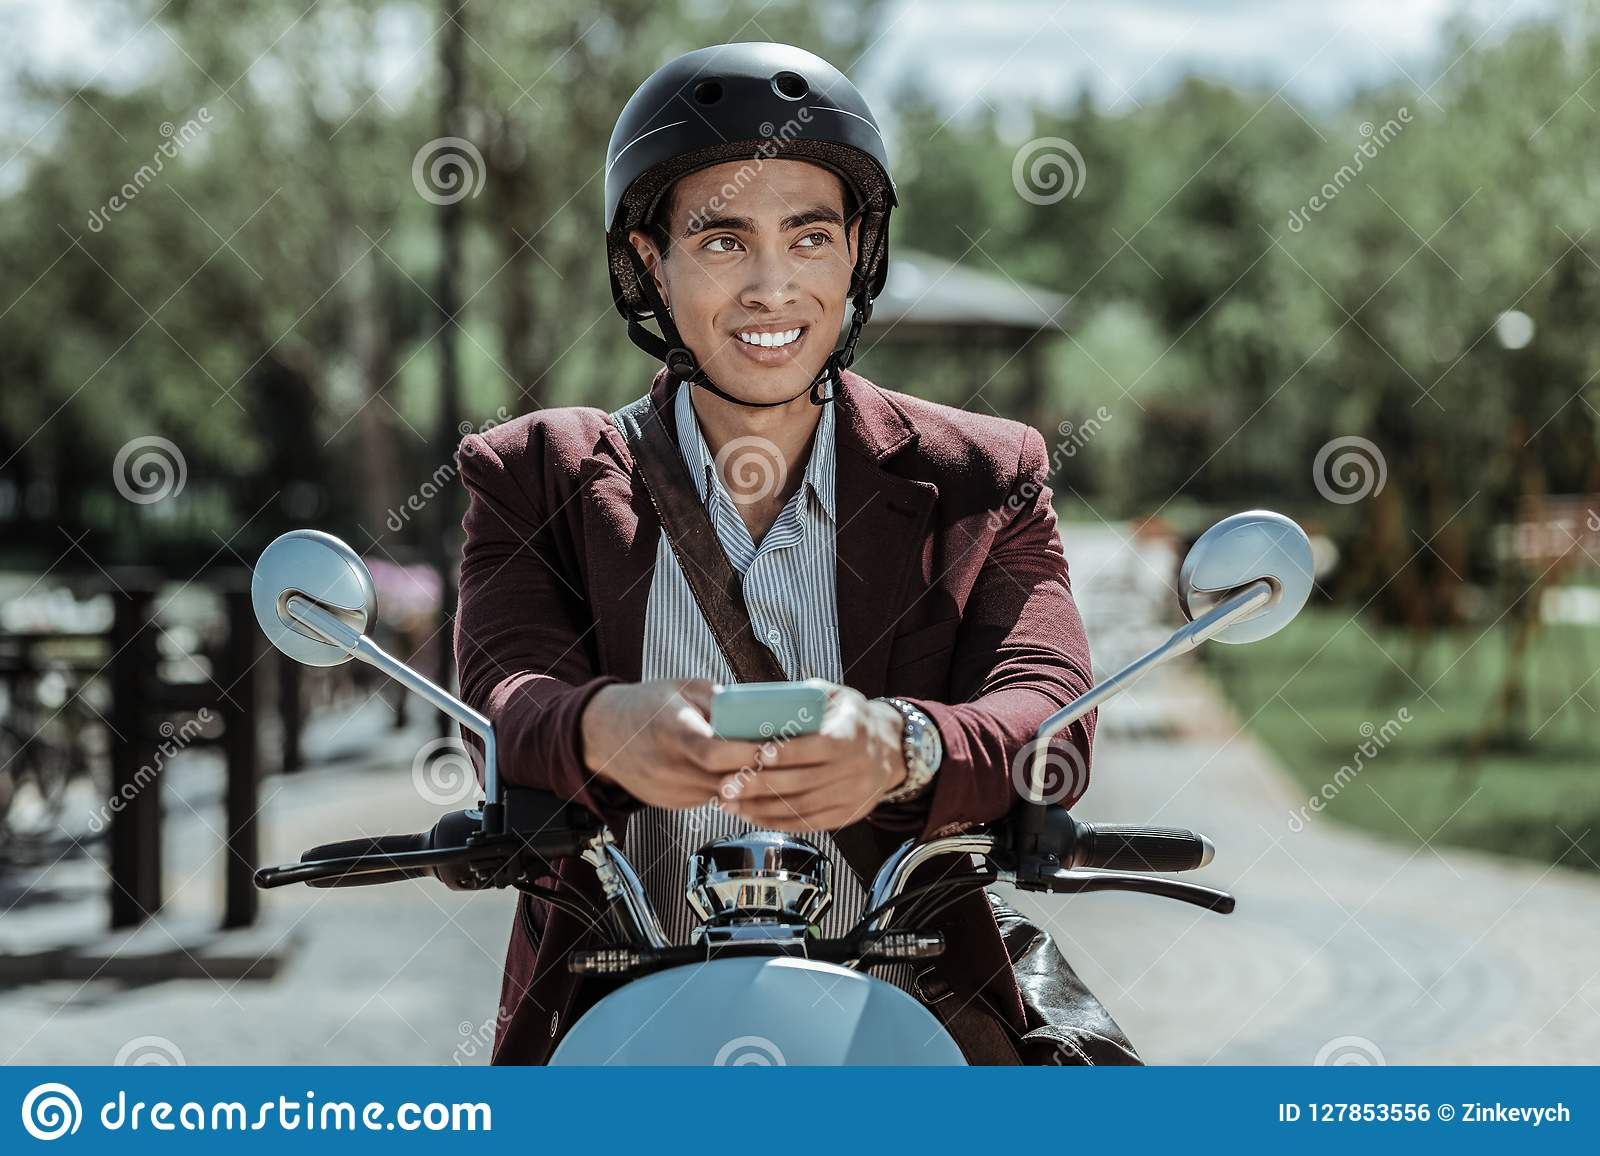helmet: (575, 32, 923, 260)
